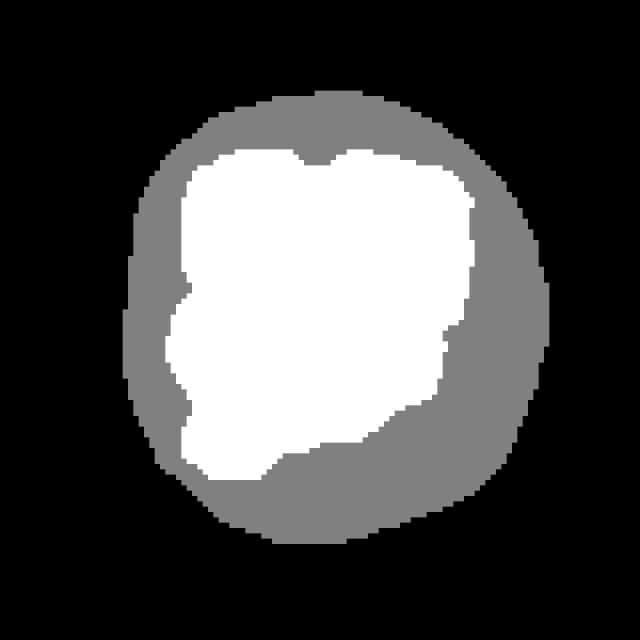WBC: (107, 75, 576, 565)
